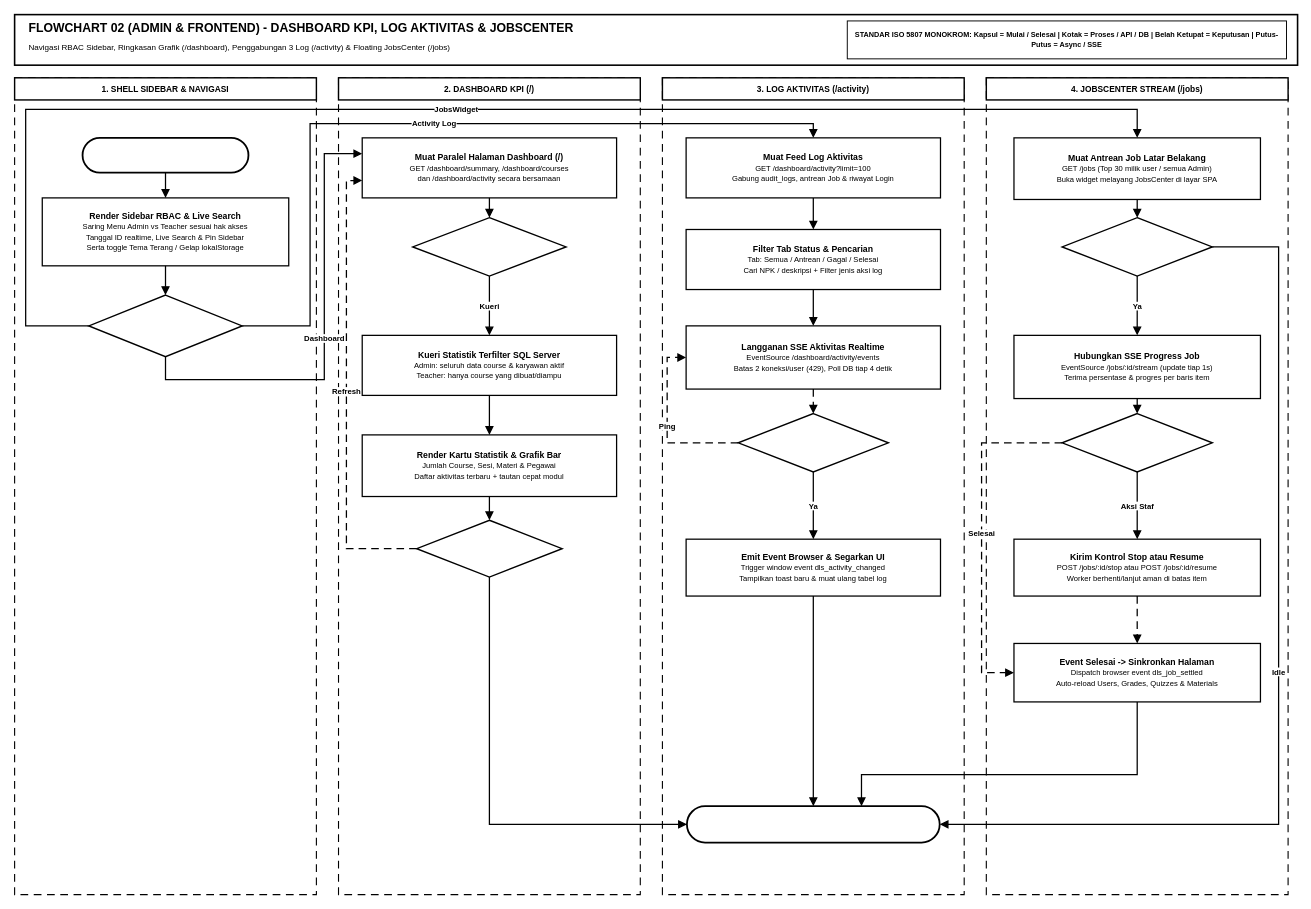
The diagram is 1311 pixels wide and 909 high, and some of its shapes have lost their labels. Here are the shapes that lost their labels. From the top down, the centre of each, then its label:
At (x=165, y=155): "STAF MASUK PORTAL".
At (x=489, y=246): "Filter Scope = Admin vs Teacher?".
At (x=1137, y=246): "Ada Job Status queued / running?".
At (x=165, y=325): "Pilih Menu / Widget di Portal SPA?".
At (x=813, y=442): "Terima Event Aktivitas Baru?".
At (x=1137, y=442): "User Klik Stop / Resume Antrean?".
At (x=489, y=548): "Ada Event SSE / Job Selesai?".
At (x=813, y=824): "MONITORING PORTAL REALTIME".
